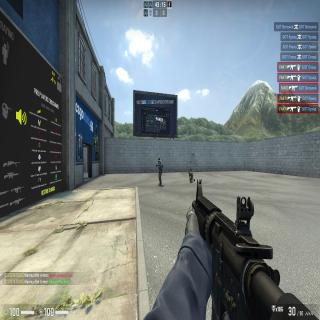CT-Body: (157, 156, 163, 187)
CT-Head: (158, 156, 160, 160)
